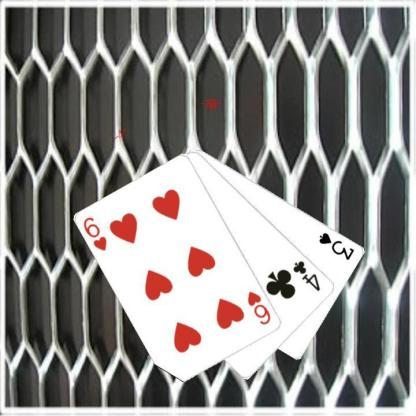3S: (317, 230, 356, 262)
4C: (290, 258, 322, 292)
6H: (81, 214, 109, 252), (245, 289, 272, 326)
